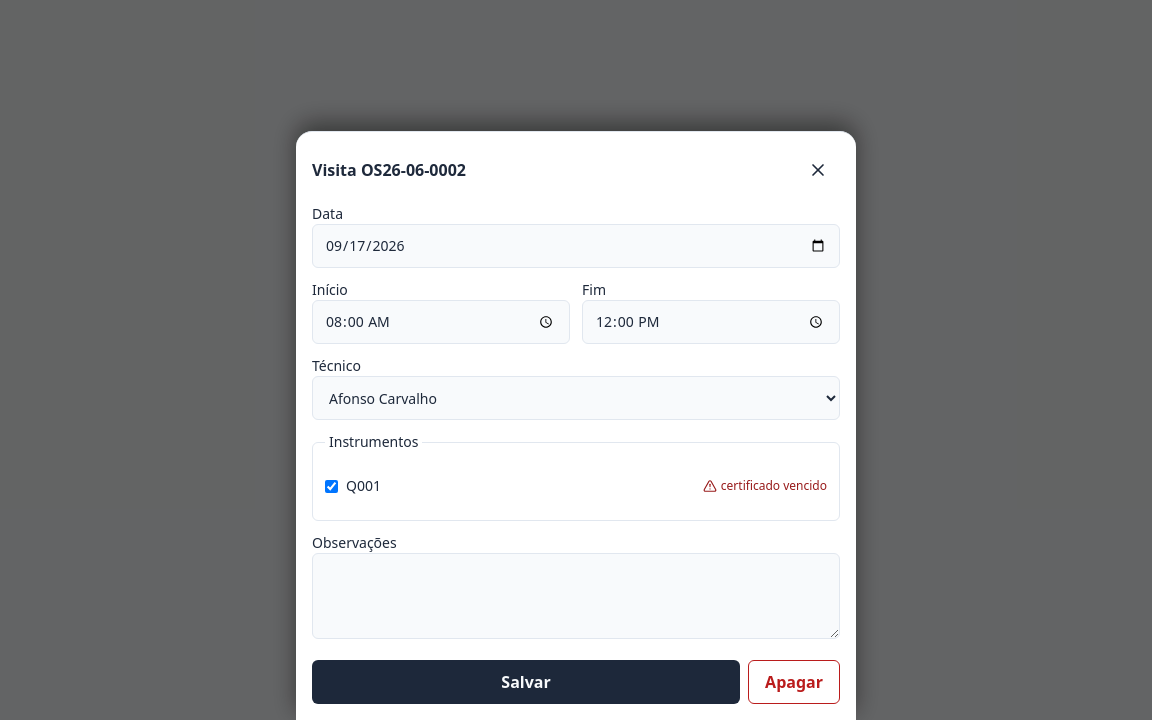
Test: VisitaSheet — técnico atual e instrumentos › mostra aviso de certificado vencido conforme a data escolhida no formulário
Expected: the text "certificado vencido" is shown, [703,478,827,494]
Type "2026-09-01" into the date field labelled "Data" at (576, 246), box [312,224,840,268]
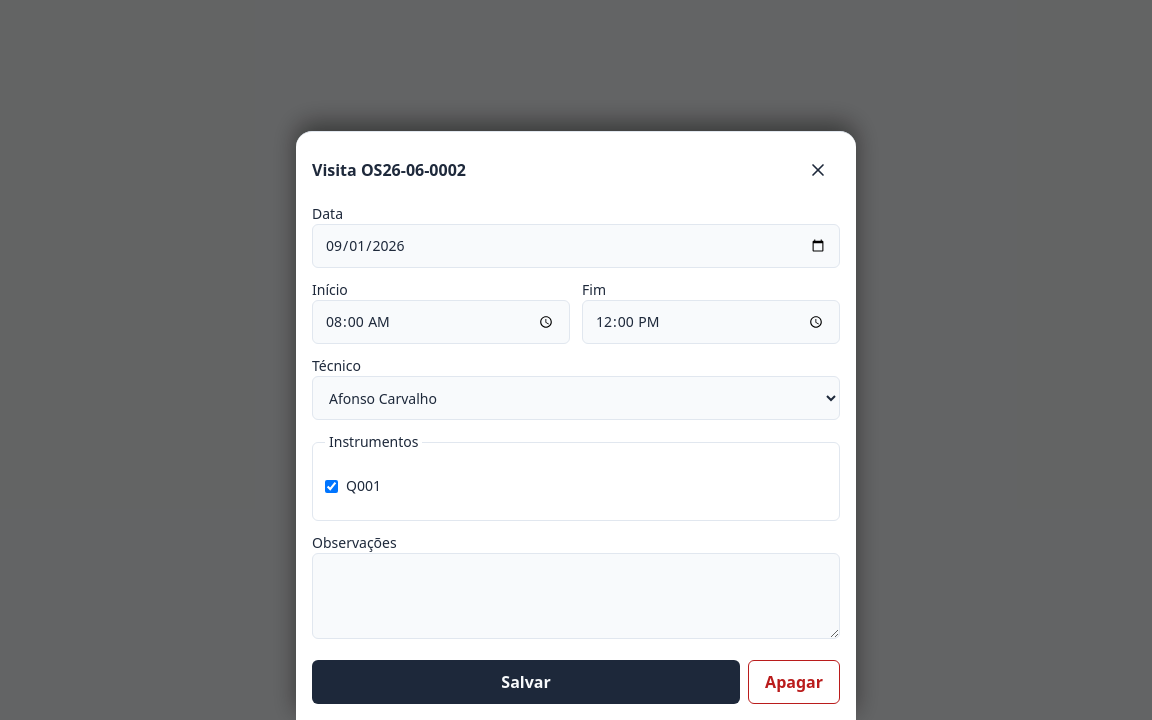
Result: the text "certificado vencido" is gone
